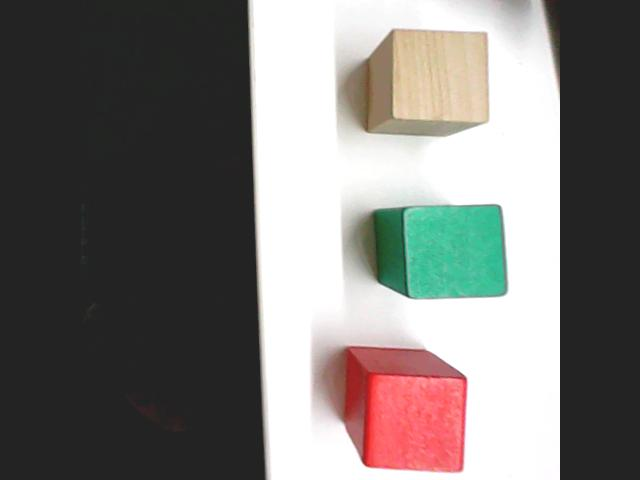green_box: (366, 196, 514, 305)
raw_box: (356, 26, 494, 146)
red_box: (329, 343, 481, 478)
